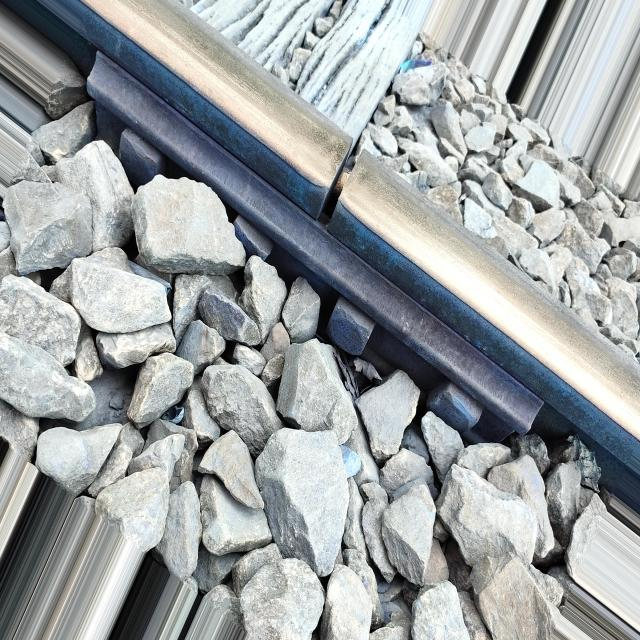Good Joint: (93, 50, 544, 450)
